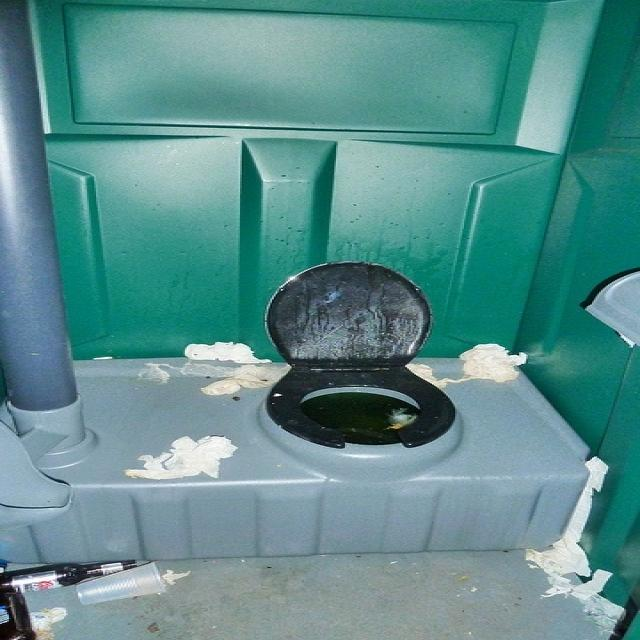garbage: (506, 455, 634, 633), (0, 548, 212, 632), (116, 332, 290, 402), (112, 434, 255, 490), (405, 341, 545, 395)
